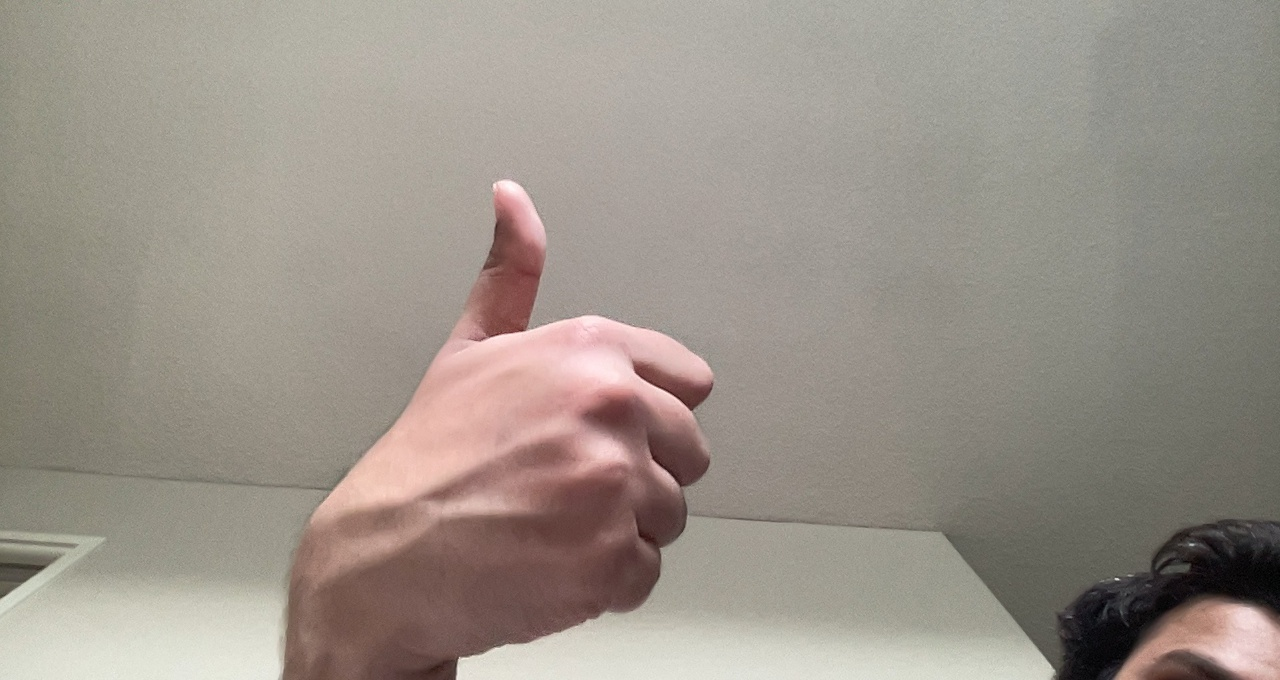thumbsup: (347, 159, 724, 648)
